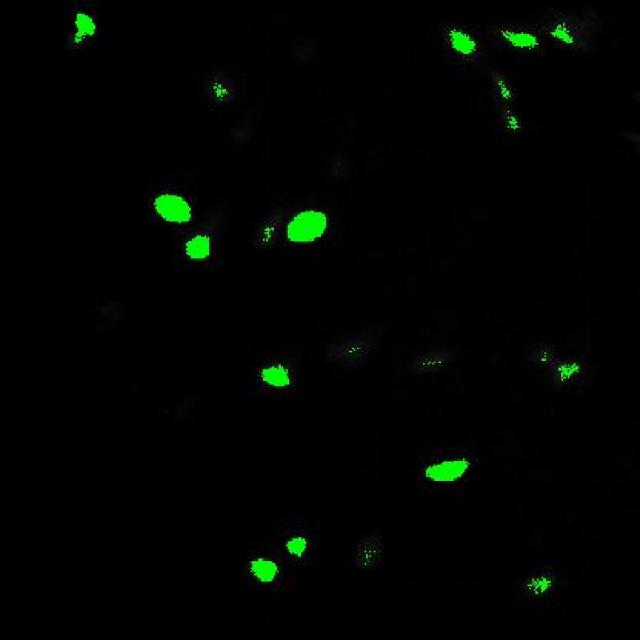Cell: (290, 212, 328, 245), (156, 194, 190, 224), (425, 459, 469, 481), (252, 554, 276, 582), (186, 234, 210, 261), (74, 14, 96, 43), (453, 28, 475, 53), (262, 366, 292, 384), (504, 32, 539, 47)
